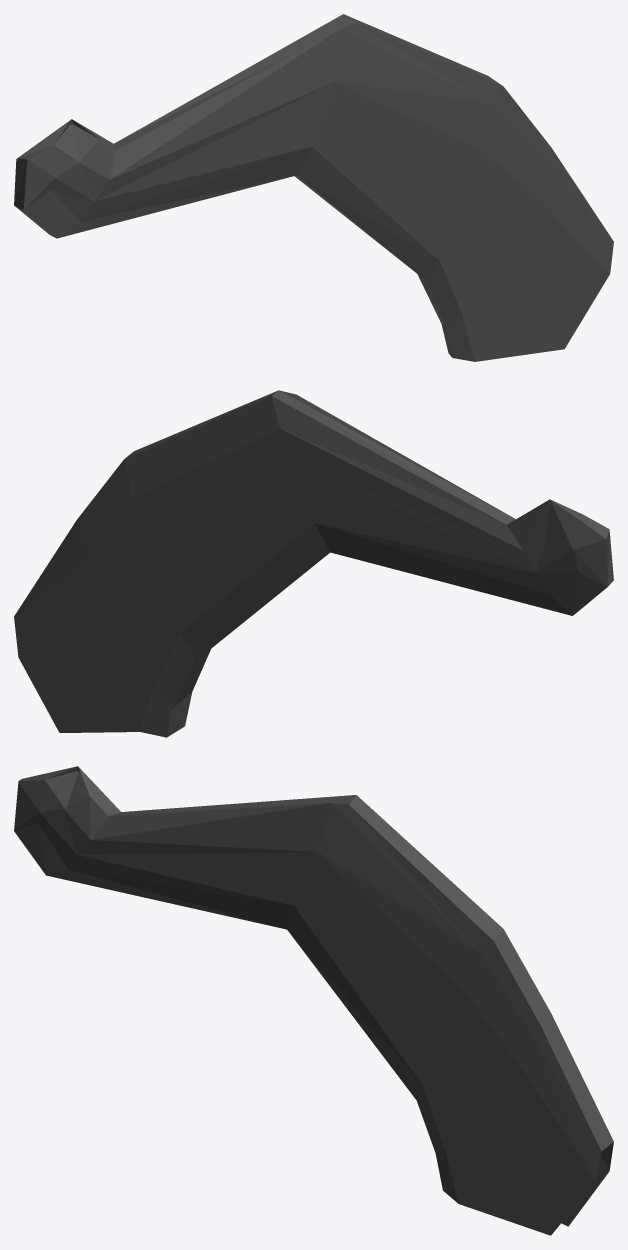
Rendered from Harpoon_Trigger_001.fbx.
The picture shows the model from 3 angles, top to bottom: view 1: azimuth 30°, elevation 25°; view 2: azimuth 150°, elevation 25°; view 3: azimuth 330°, elevation 25°; orthographic projection.
Parts seen in each view (by area): view 1: Harpoon_Trigger_001; view 2: Harpoon_Trigger_001; view 3: Harpoon_Trigger_001.
Part boxes in pixels (<box>): Harpoon_Trigger_001: <box>14,14,613,361</box>; Harpoon_Trigger_001: <box>14,390,613,737</box>; Harpoon_Trigger_001: <box>14,766,613,1235</box>.
Bounding box in the file's own units: 0.0665 × 0.0411 × 0.00394.
